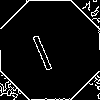I: (25, 25, 56, 72)
